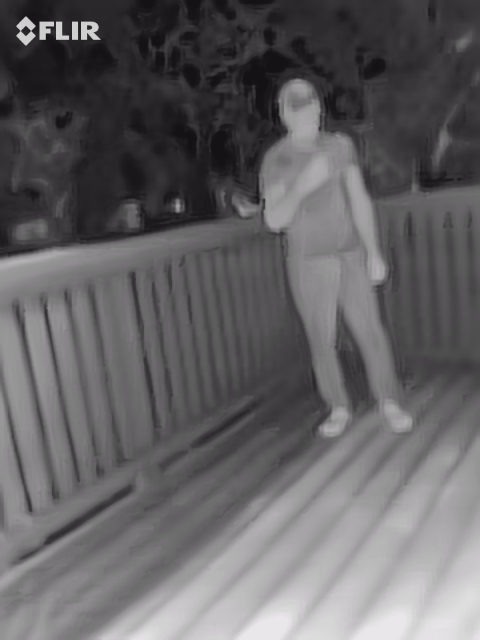head: (275, 77, 324, 137)
